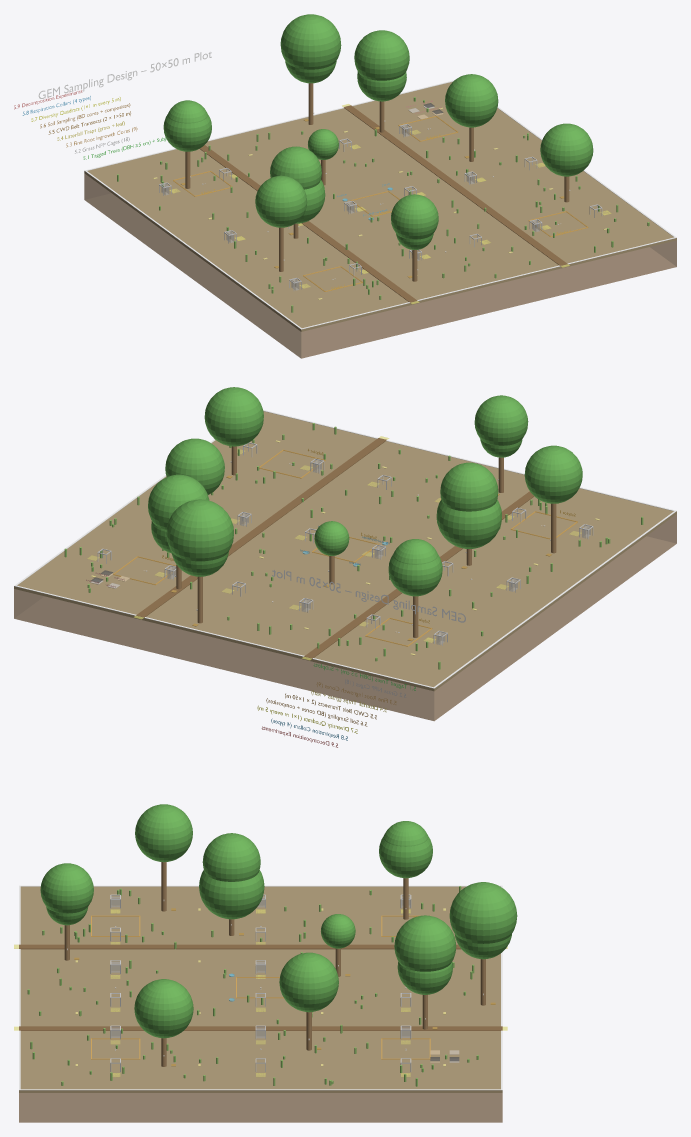
File: Claude_GEM_fixed.glb
3 renders of one model, top to bottom at view 1: azimuth 30°, elevation 25°; view 2: azimuth 150°, elevation 25°; view 3: azimuth 270°, elevation 25°, orthographic. The views are drawn at different scales.
Parts seen in each view (by area): view 1: Ground, Soil_Layer, Tree_6_Crown, Tree_2_Crown, BG_Crown_5, BG_Crown_3, Tree_8_Crown, CWD_Transect2, BG_Crown_1, Tree_4_Crown, CWD_Transect1, Tree_0_Crown (+9 smaller); view 2: Ground, Soil_Layer, Tree_6_Crown, BG_Crown_3, Tree_8_Crown, Tree_4_Crown, BG_Crown_4, BG_Crown_1, BG_Crown_5, CWD_Transect2, Tree_2_Crown, Tree_0_Crown (+8 smaller); view 3: Ground, Soil_Layer, Tree_6_Crown, Tree_2_Crown, BG_Crown_5, BG_Crown_3, Tree_8_Crown, Tree_4_Crown, BG_Crown_4, BG_Crown_1, CWD_Transect1, CWD_Transect2 (+7 smaller).
Boxes of the visible parts, x1=… form: Ground: x1=84, y1=82, x2=676, y2=331; Soil_Layer: x1=84, y1=173, x2=676, y2=358; Tree_6_Crown: x1=280, y1=14, x2=341, y2=69; Tree_2_Crown: x1=354, y1=30, x2=409, y2=80; BG_Crown_5: x1=445, y1=74, x2=498, y2=127; BG_Crown_3: x1=540, y1=123, x2=593, y2=176; Tree_8_Crown: x1=255, y1=175, x2=307, y2=227; CWD_Transect2: x1=344, y1=105, x2=567, y2=265; BG_Crown_1: x1=391, y1=194, x2=438, y2=239; Tree_4_Crown: x1=270, y1=146, x2=321, y2=189; CWD_Transect1: x1=200, y1=145, x2=417, y2=302; Tree_0_Crown: x1=163, y1=114, x2=211, y2=151; Ground: x1=14, y1=411, x2=676, y2=691; Soil_Layer: x1=14, y1=514, x2=676, y2=721; Tree_6_Crown: x1=166, y1=499, x2=233, y2=561; BG_Crown_3: x1=204, y1=387, x2=263, y2=446; Tree_8_Crown: x1=524, y1=445, x2=582, y2=503; Tree_4_Crown: x1=440, y1=462, x2=498, y2=511; BG_Crown_4: x1=436, y1=499, x2=501, y2=548; BG_Crown_1: x1=474, y1=395, x2=528, y2=445; BG_Crown_5: x1=165, y1=438, x2=224, y2=494; CWD_Transect2: x1=136, y1=438, x2=386, y2=617; Tree_2_Crown: x1=148, y1=474, x2=209, y2=529; Tree_0_Crown: x1=388, y1=554, x2=442, y2=596; Ground: x1=19, y1=886, x2=502, y2=1092; Soil_Layer: x1=19, y1=1093, x2=502, y2=1122; Tree_6_Crown: x1=449, y1=882, x2=517, y2=943; Tree_2_Crown: x1=394, y1=915, x2=456, y2=971; BG_Crown_5: x1=279, y1=952, x2=338, y2=1011; BG_Crown_3: x1=134, y1=979, x2=193, y2=1038; Tree_8_Crown: x1=135, y1=804, x2=192, y2=862; Tree_4_Crown: x1=202, y1=833, x2=260, y2=881; BG_Crown_4: x1=199, y1=870, x2=264, y2=919; BG_Crown_1: x1=40, y1=863, x2=93, y2=913; CWD_Transect1: x1=19, y1=944, x2=460, y2=949; CWD_Transect2: x1=19, y1=1026, x2=502, y2=1030.
Bounding box in the file's own units: 54.93 × 17.3 × 68.5.
